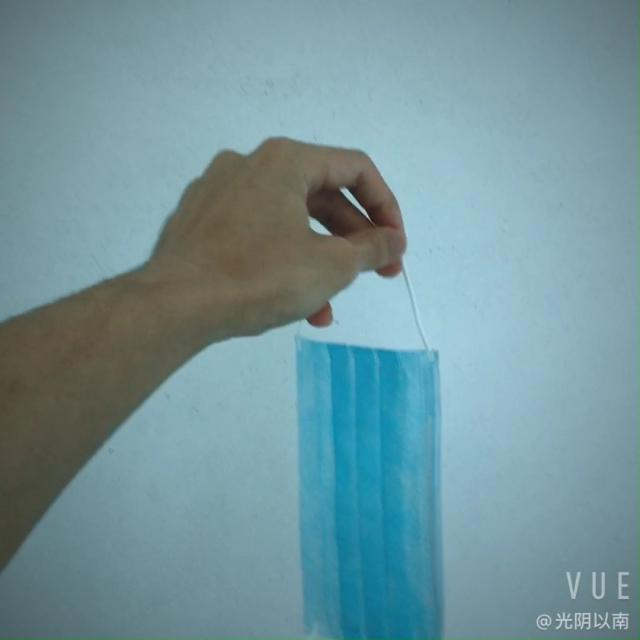face mask: (295, 318, 462, 623)
